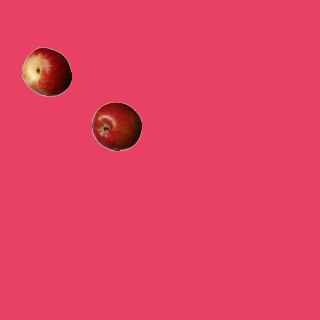Apple Braeburn: (91, 101, 141, 151)
Nectarine: (21, 46, 71, 96)
